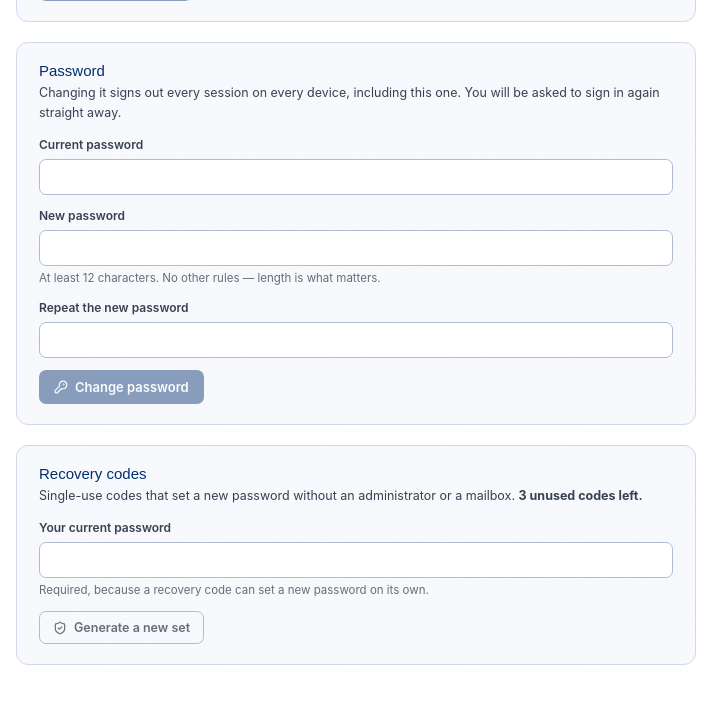
Test: <ProfileScreen> › states how many recovery codes are left, and confirms before invalidating them
(page scrolled)
Expected: the text "3 unused codes left." is shown, [518,488,643,503]
Type "old-password-here" into the password field labelled "Your current password" at (356, 560), box [39,542,673,578]
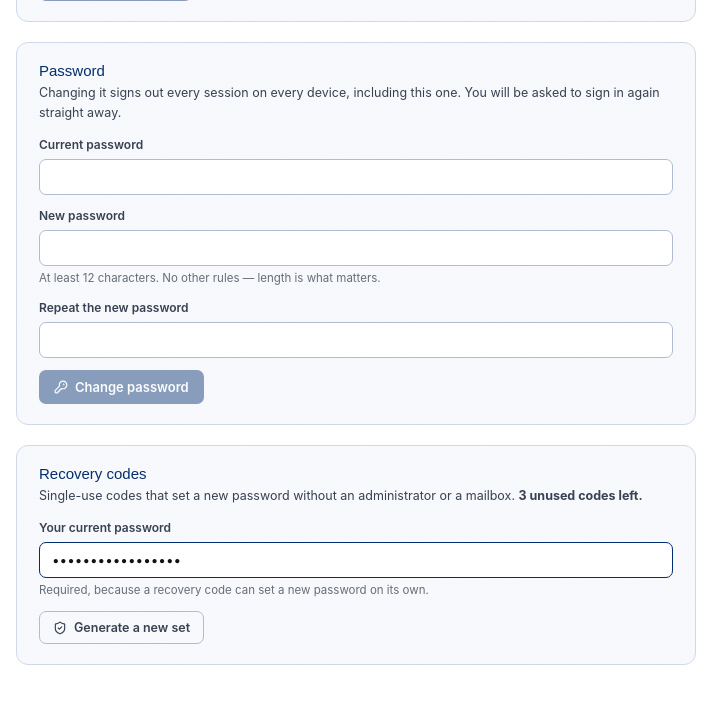
Click the button "Generate a new set" at (122, 628), box [39,611,204,644]
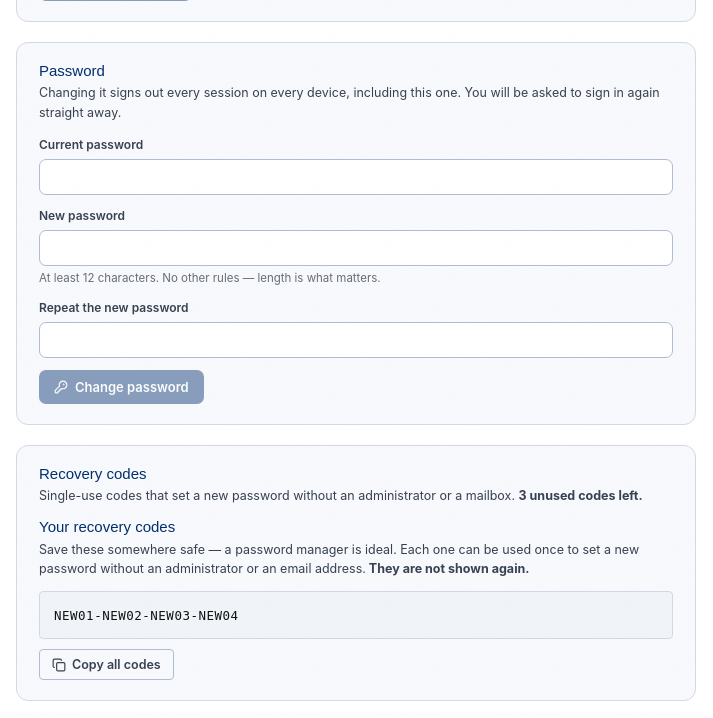
Result: the text "NEW01-NEW02-NEW03-NEW04" is shown at [54,608,239,623]
